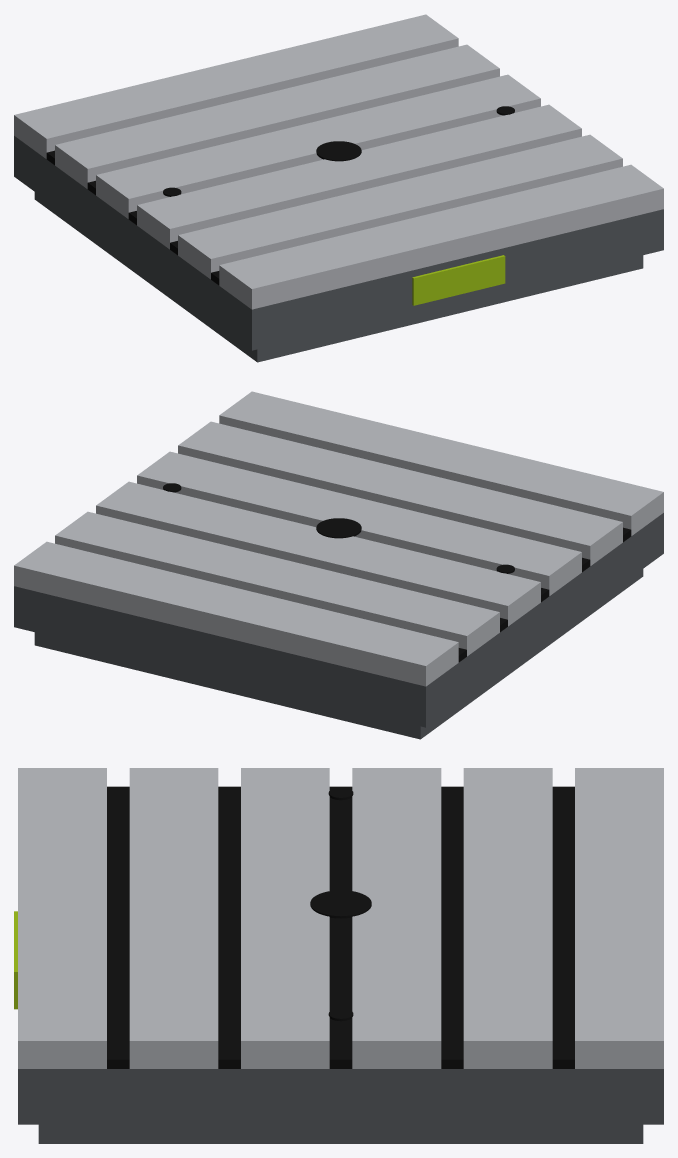
The model's file is pallet_630x630.glb.
The picture shows the model from 3 angles, top to bottom: view 1: azimuth 30°, elevation 25°; view 2: azimuth 150°, elevation 25°; view 3: azimuth 270°, elevation 25°; orthographic projection. The views are drawn at different scales.
Visible parts, largest first — view 1: pallet_body__steel, pallet_body__steel_dark, pallet_body__lime, pallet_body__rubber; view 2: pallet_body__steel, pallet_body__steel_dark, pallet_body__rubber; view 3: pallet_body__steel, pallet_body__steel_dark, pallet_body__rubber.
Part boxes in pixels (left/top/right/bottom): pallet_body__steel: left=14, top=14, right=663, bottom=309; pallet_body__steel_dark: left=14, top=136, right=663, bottom=362; pallet_body__lime: left=412, top=255, right=505, bottom=305; pallet_body__rubber: left=46, top=106, right=514, bottom=285; pallet_body__steel: left=14, top=391, right=663, bottom=686; pallet_body__steel_dark: left=14, top=513, right=663, bottom=739; pallet_body__rubber: left=163, top=483, right=631, bottom=662; pallet_body__steel: left=18, top=768, right=663, bottom=1068; pallet_body__steel_dark: left=18, top=1069, right=663, bottom=1143; pallet_body__rubber: left=107, top=786, right=574, bottom=1068.
Bounding box in the file's own units: 0.63 × 0.1215 × 0.634.
